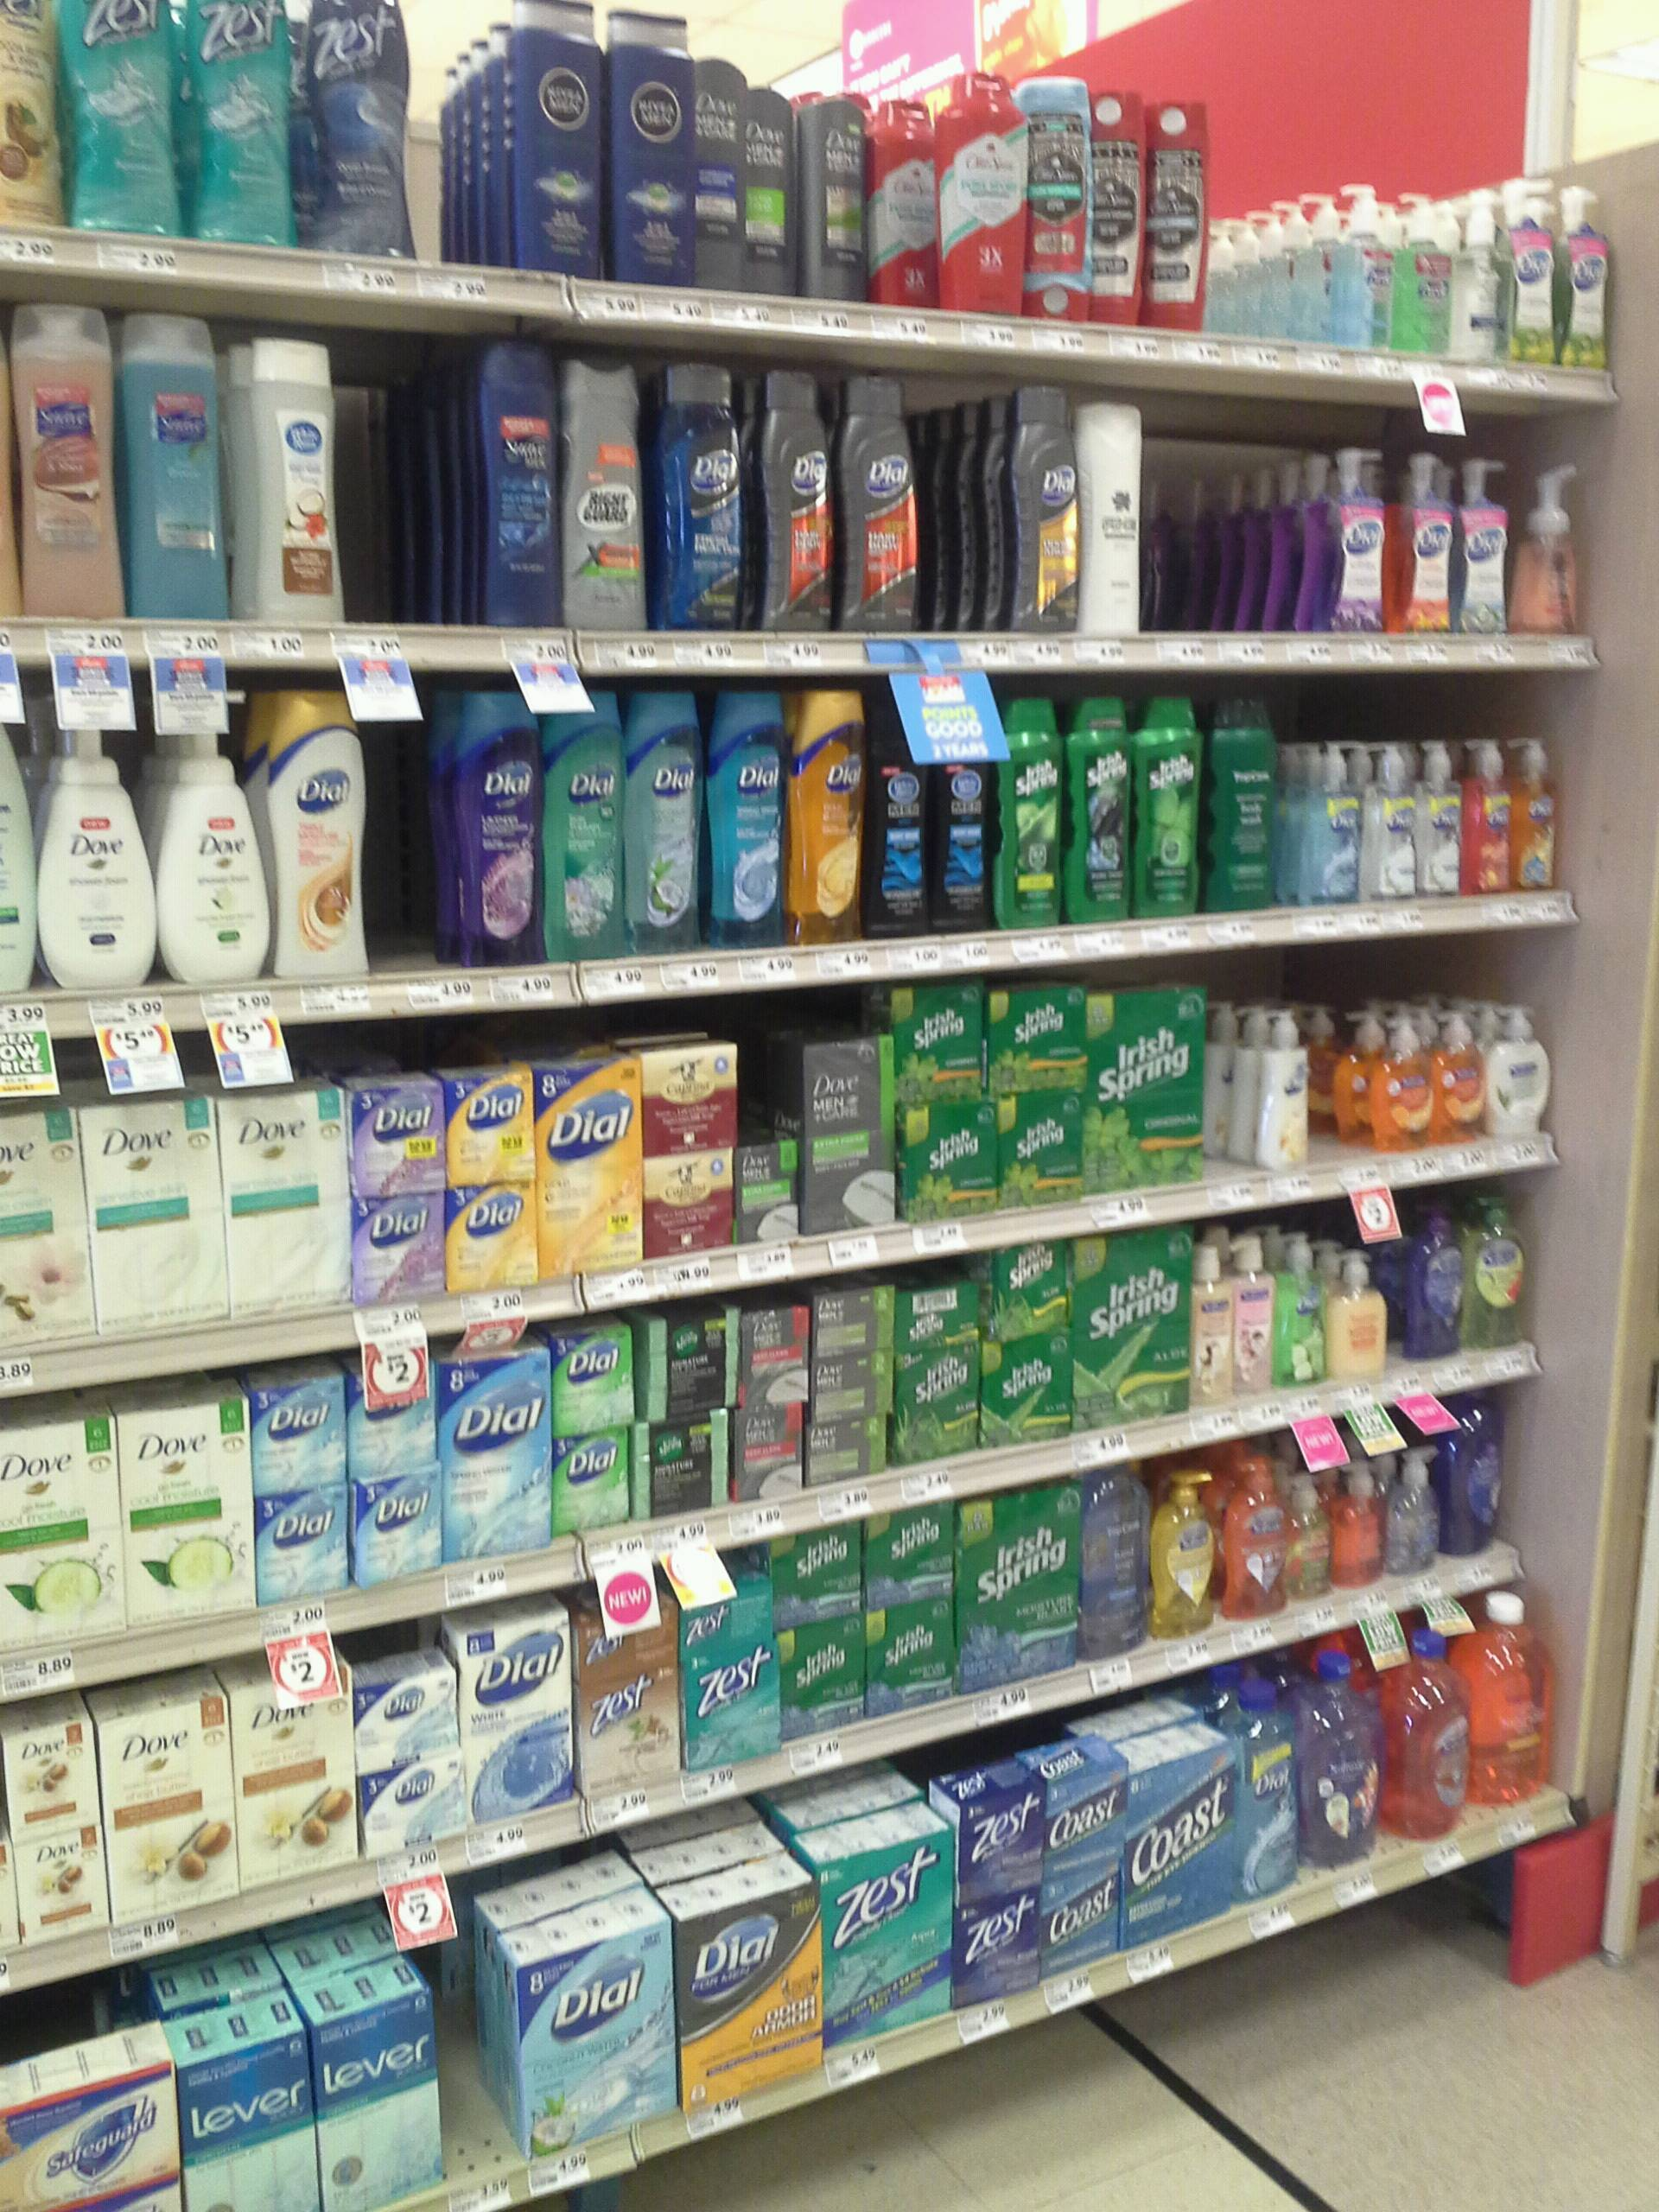Misplacement: (736, 1036, 807, 1246)
Out-of-stock: (1155, 429, 1336, 638), (397, 11, 532, 269), (352, 358, 474, 630), (902, 385, 1023, 637), (365, 709, 457, 1017), (399, 1946, 517, 2178), (1205, 184, 1348, 349), (1200, 1015, 1281, 1186), (1305, 1027, 1399, 1165)
